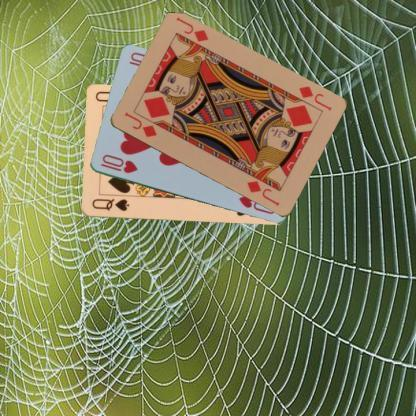10h: (98, 152, 138, 175)
Jd: (122, 109, 158, 139), (296, 83, 333, 112)
Qs: (89, 196, 131, 212)
